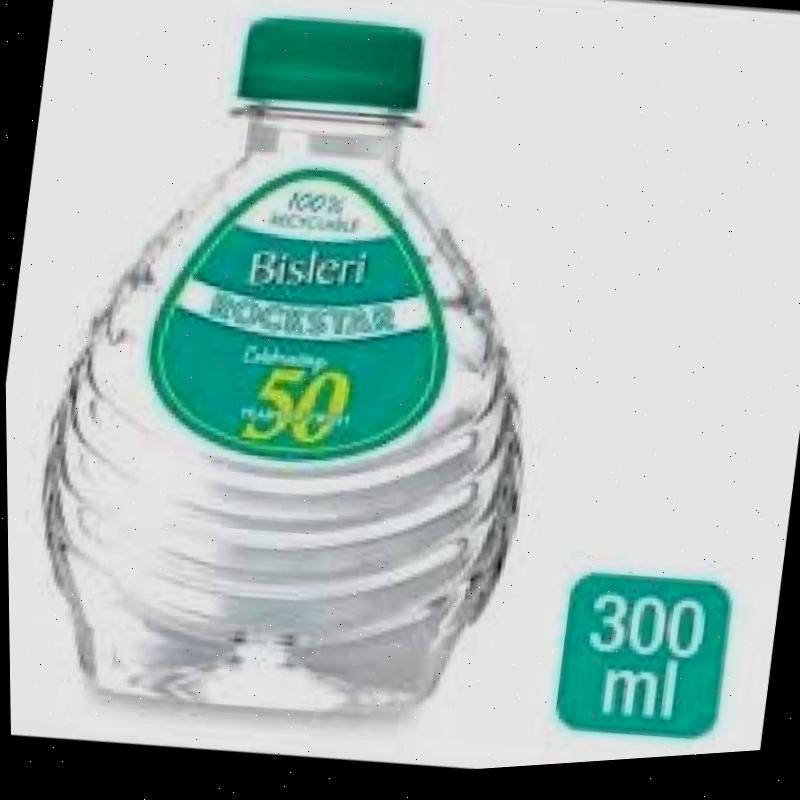botella: (0, 0, 588, 760)
